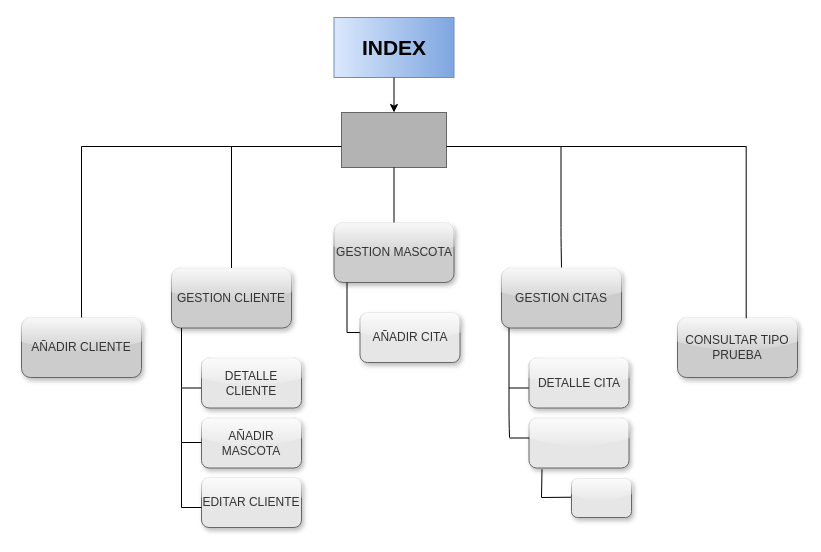
The diagram is 821 pixels wide and 552 high, and some of its shapes have lost their labels. Here are the shapes that lost their labels. From the top down, the centre of each, then its label:
point (393, 140): RECEPCIONISTA
point (579, 444): FINALIZAR CITA
point (602, 499): PAGO
